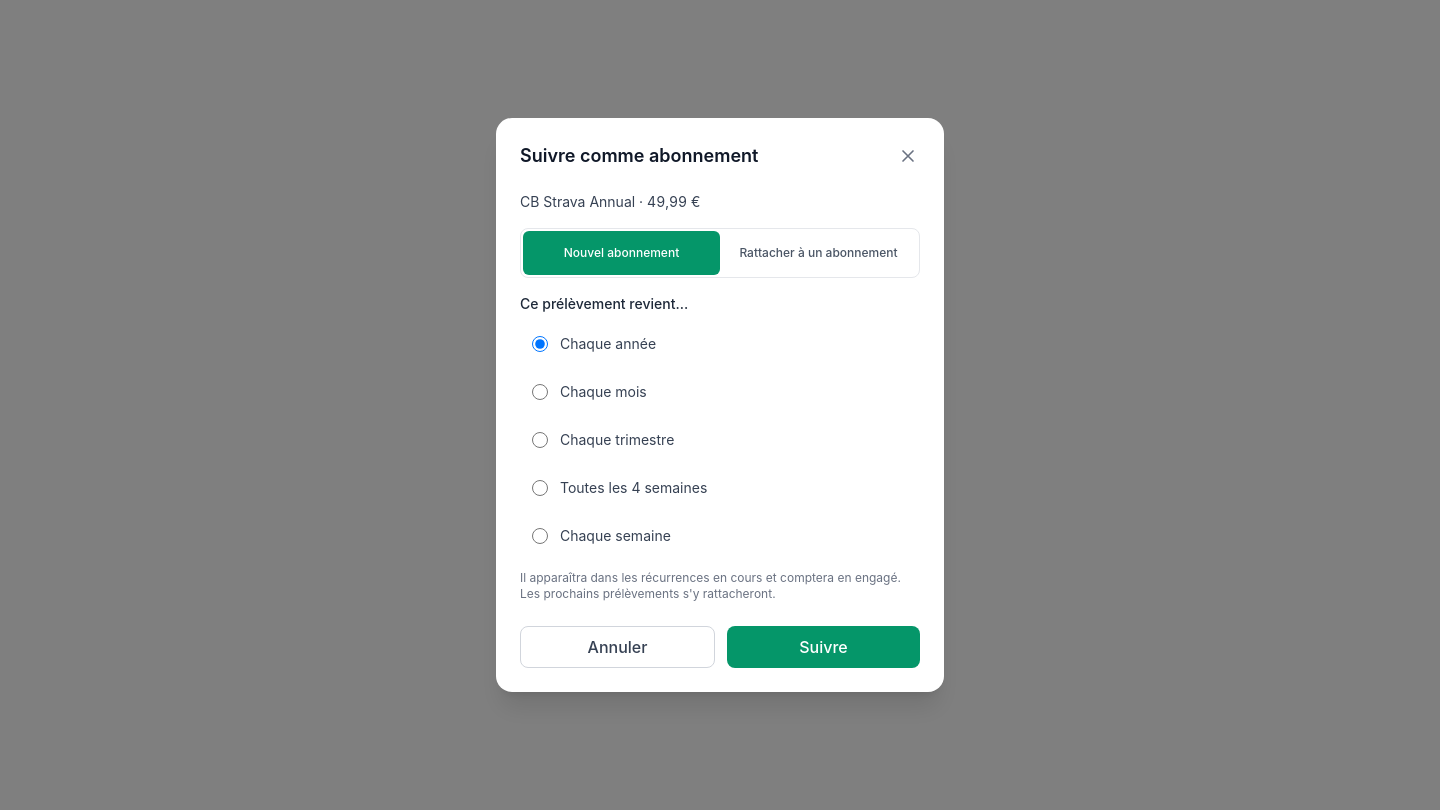
MarkRecurringModal › lets each series be checked in a new tab before attaching
The width and height of the screenshot is (1440, 810).
Click the radio button with test id "mode-link" at (818,253), box [720, 231, 917, 275]
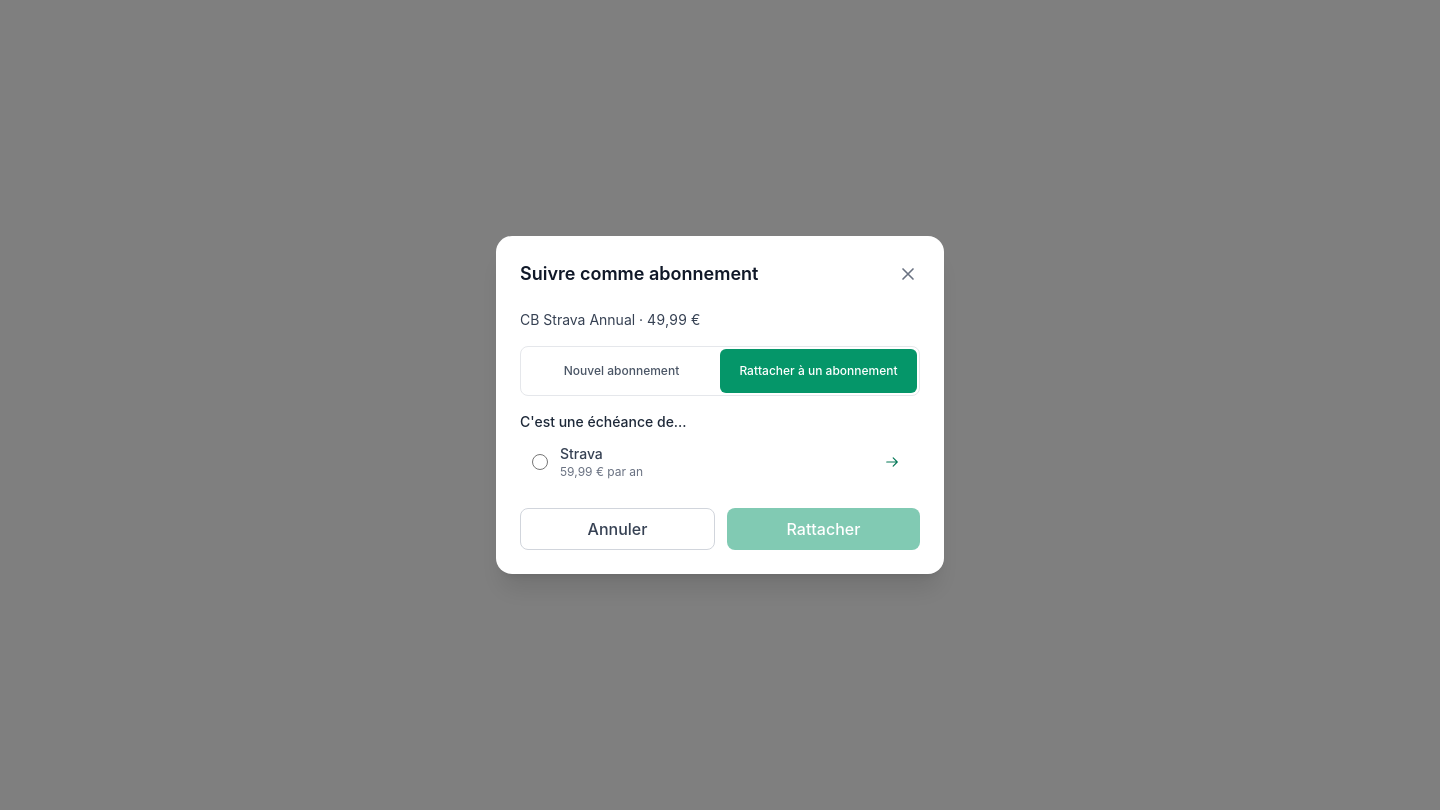
Check: the radio button with test id "target-60:ireland strava" is not checked, box [532, 454, 548, 470]
